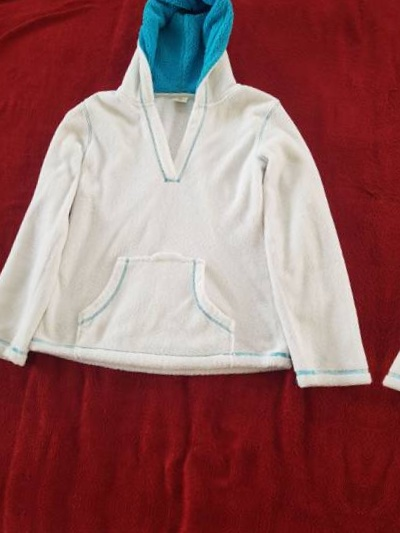Hoodie: (0, 0, 400, 432), (373, 8, 400, 483)
